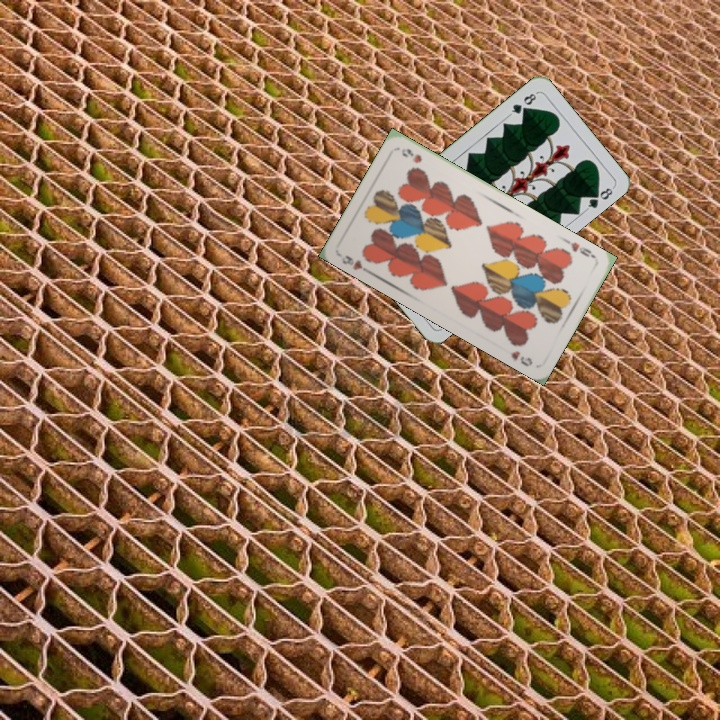G8: (505, 88, 540, 118)
H9: (561, 235, 598, 261), (337, 251, 373, 276)
